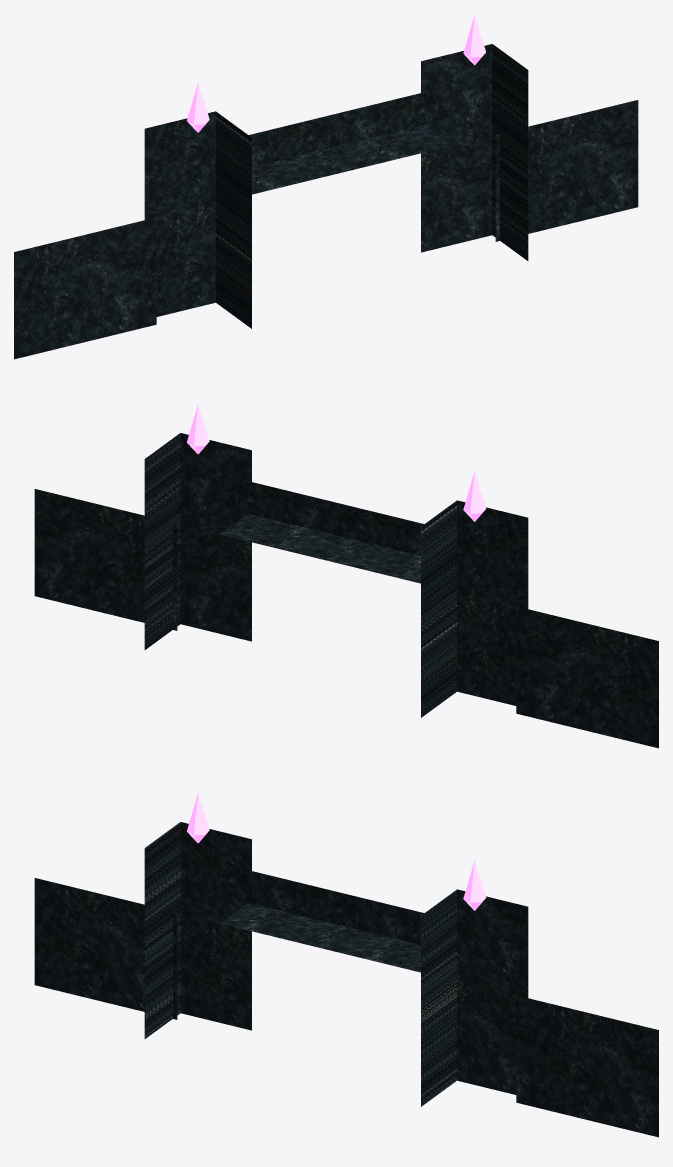
The model's file is gate.gltf.
3 views of the same model, one above another, from view 1: azimuth 30°, elevation 25°; view 2: azimuth 150°, elevation 25°; view 3: azimuth 330°, elevation 25° (orthographic).
Size of the model in its own units: 28 by 10.4 by 2.8.
